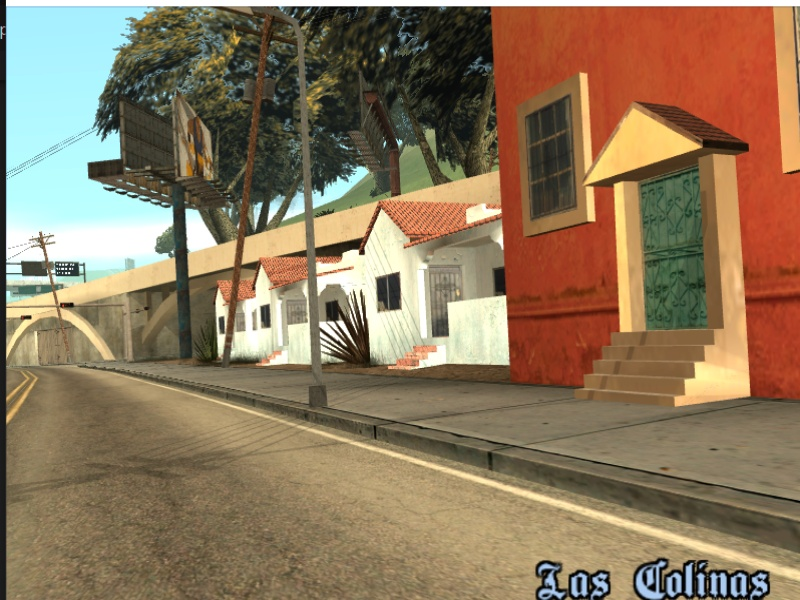pole: (281, 18, 346, 414), (207, 12, 272, 366), (26, 230, 81, 366), (162, 182, 193, 359)
